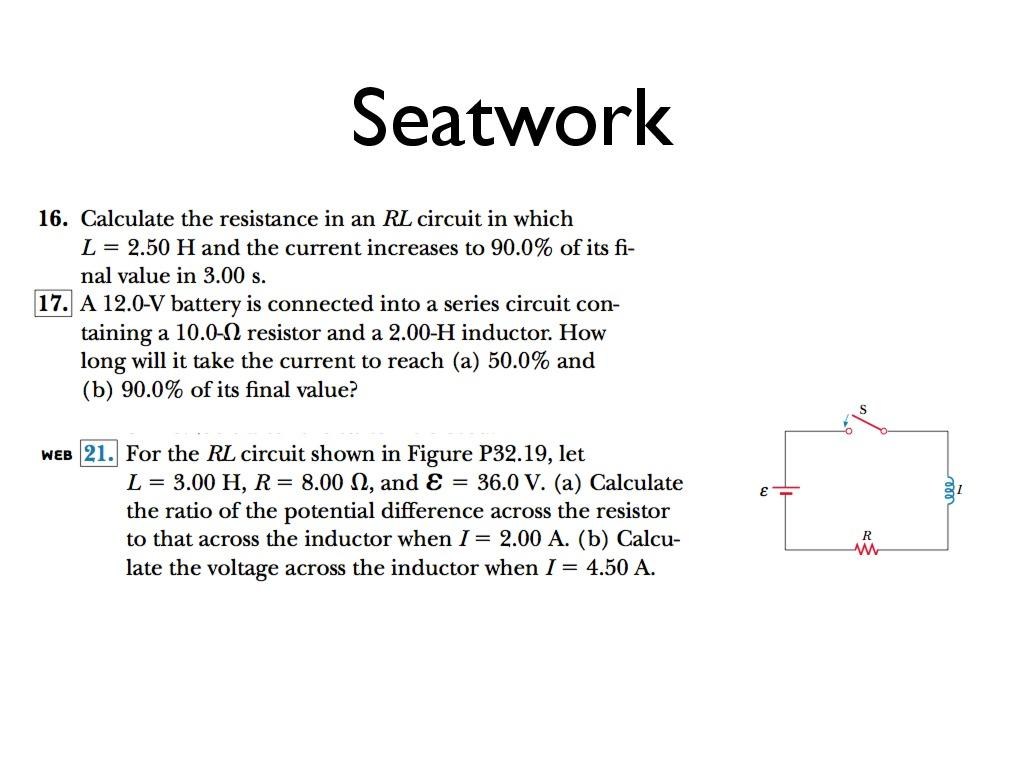paragraph: (27, 189, 973, 620)
title: (334, 70, 695, 171)
